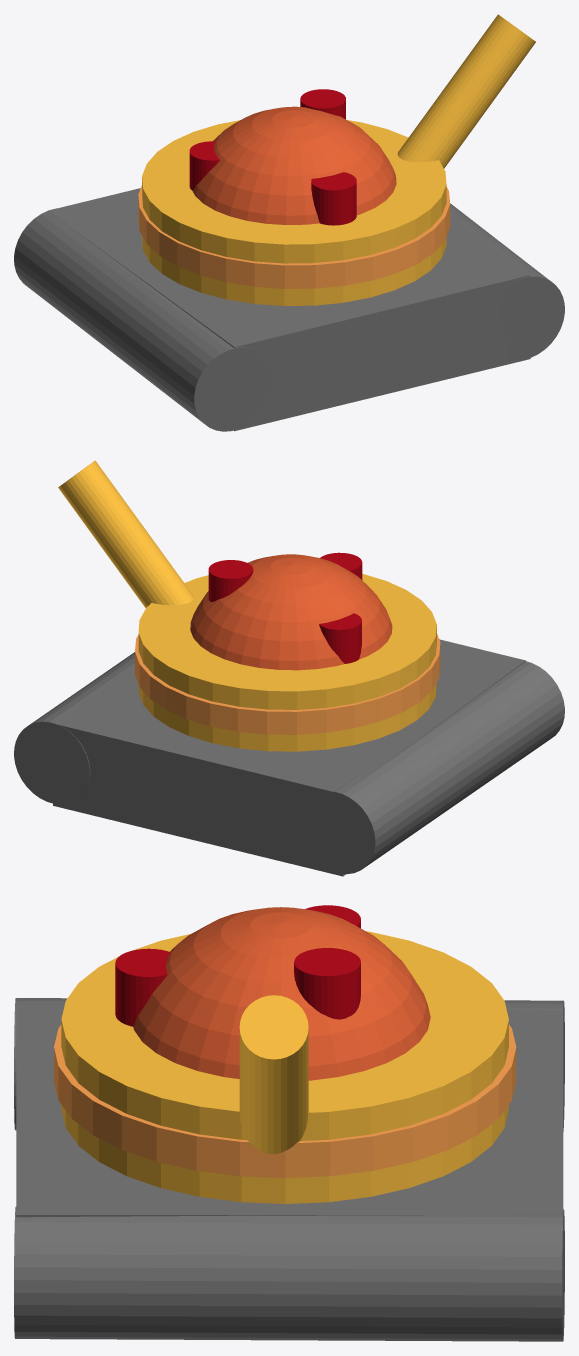
Rendered from Pastank (1).glb.
The picture shows the model from 3 angles, top to bottom: view 1: azimuth 30°, elevation 25°; view 2: azimuth 150°, elevation 25°; view 3: azimuth 270°, elevation 25°; orthographic projection. The views are drawn at different scales.
Parts seen in each view (by area): view 1: 立方体, 円柱.002, 円柱.001, 球, 円柱.007, 円柱.006, 円柱, 円柱.004, 円柱.005, 円柱.003; view 2: 立方体, 円柱.002, 円柱.001, 球, 円柱.007, 円柱.006, 円柱, 円柱.005, 円柱.003, 円柱.004; view 3: 円柱, 円柱.002, 立方体, 球, 円柱.007, 円柱.006, 円柱.003, 円柱.004, 円柱.001, 円柱.005.
Boxes of the visible parts, box(x1,y1,x2,y2) form: 立方体: box(48, 188, 530, 431); 円柱.002: box(142, 120, 446, 305); 円柱.001: box(14, 208, 273, 431); 球: box(192, 106, 396, 224); 円柱.007: box(138, 185, 450, 288); 円柱.006: box(397, 14, 535, 168); 円柱: box(450, 203, 564, 360); 円柱.004: box(311, 172, 356, 225); 円柱.005: box(189, 141, 219, 190); 円柱.003: box(300, 89, 345, 119); 立方体: box(53, 639, 525, 876); 円柱.002: box(138, 573, 436, 751); 円柱.001: box(326, 661, 564, 874); 球: box(190, 554, 392, 670); 円柱.007: box(135, 634, 440, 734); 円柱.006: box(58, 460, 193, 607); 円柱: box(14, 652, 134, 804); 円柱.005: box(319, 613, 361, 663); 円柱.003: box(208, 560, 253, 601); 円柱.004: box(320, 552, 362, 579); 円柱: box(14, 1207, 564, 1341); 円柱.002: box(61, 931, 508, 1203); 立方体: box(16, 1003, 563, 1217); 球: box(133, 907, 430, 1080); 円柱.007: box(54, 1024, 516, 1177); 円柱.006: box(239, 995, 308, 1154); 円柱.003: box(294, 948, 360, 1019); 円柱.004: box(115, 948, 170, 1026); 円柱.001: box(14, 998, 564, 1131); 円柱.005: box(305, 905, 360, 928).
Size of the model in its own units: 8.4 by 4.96 by 6.42.
